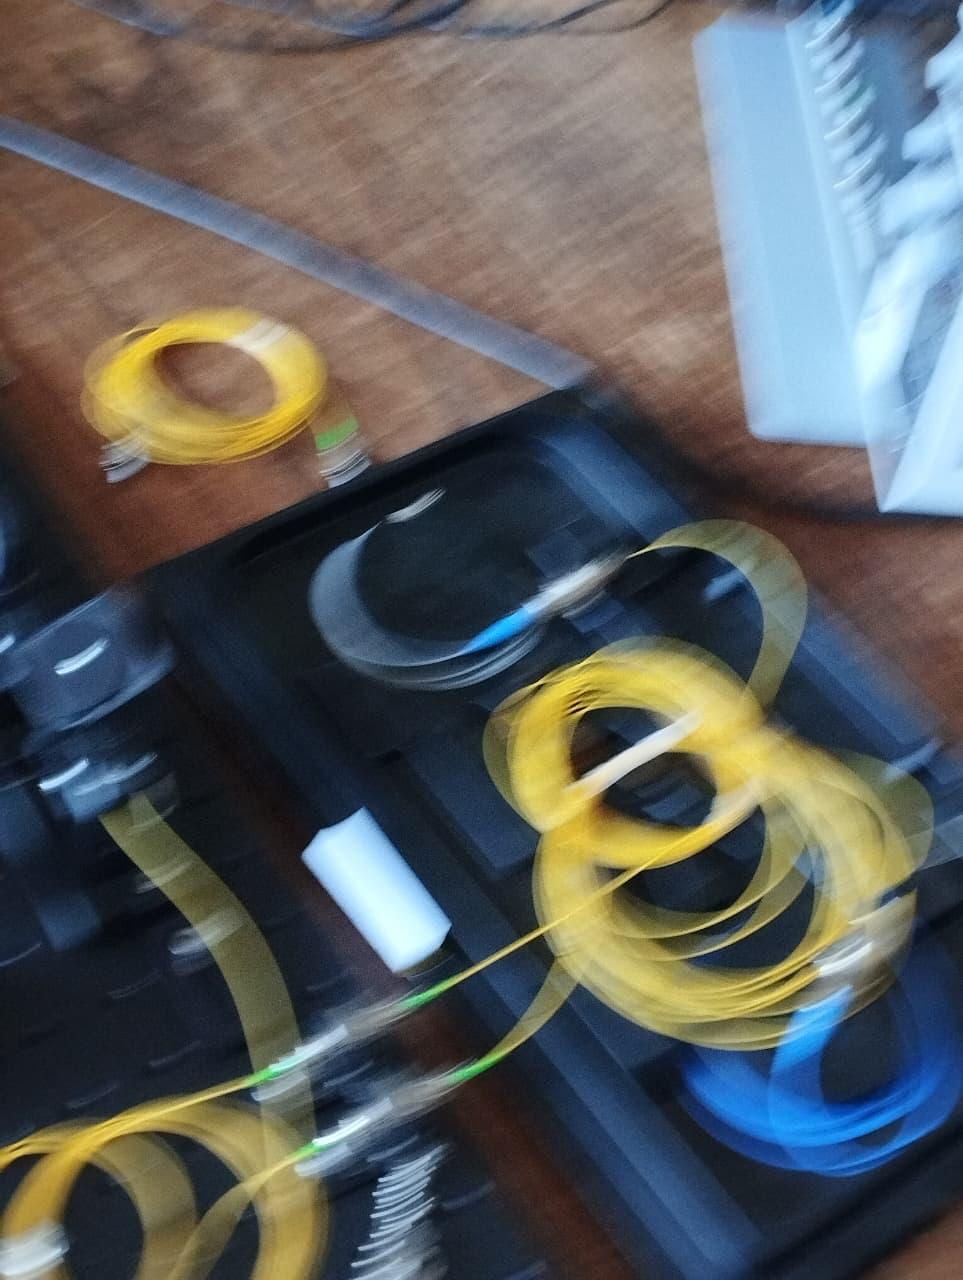fiber_cable: (480, 656, 932, 1036), (13, 1082, 352, 1280), (80, 303, 378, 507)
